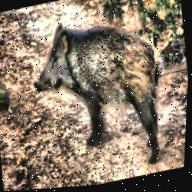boar: (16, 0, 185, 190)
